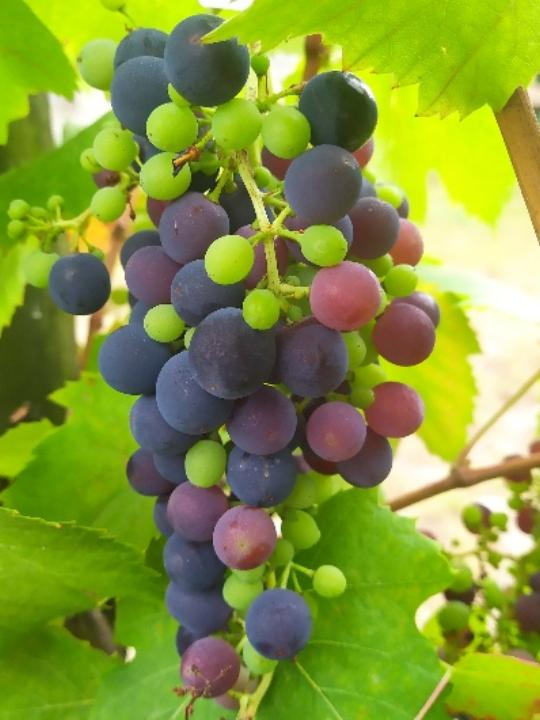grape: (7, 0, 441, 720)
